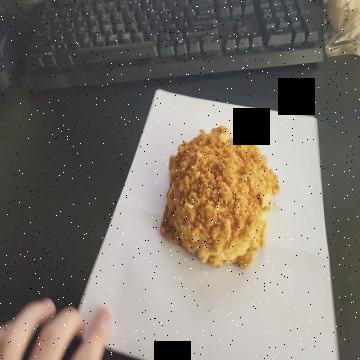soboru_bread: (158, 125, 281, 270)
